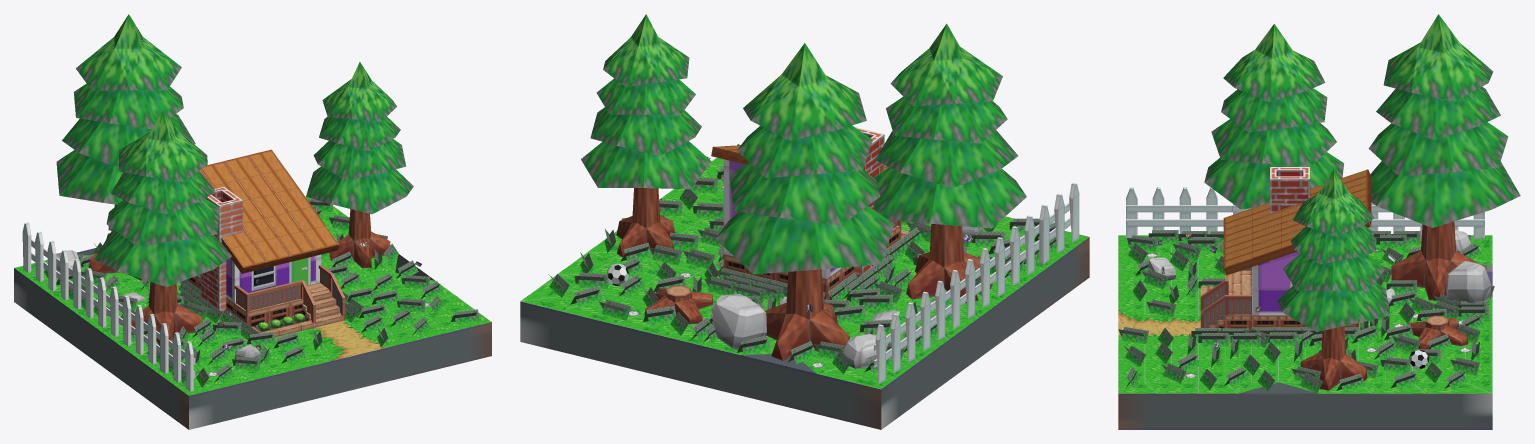
The picture shows the model from 3 angles, left to right: view 1: azimuth 30°, elevation 25°; view 2: azimuth 150°, elevation 25°; view 3: azimuth 270°, elevation 25°; orthographic projection. The views are drawn at different scales.
Visible parts, largest first — view 1: ground, tree_01, tree_02, tree_00, house, fence, support, chimney; view 2: ground, tree_02, tree_01, tree_00, fence, rock_02, tree_stump, house, support, rock_04, chimney; view 3: ground, tree_02, tree_01, tree_00, house, fence, support, chimney, rock_02, tree_stump, grass_092, rock_00 (+4 smaller).
Part boxes in pixels (x1,y1,x2,y2): ground: [14, 196, 491, 429]; tree_01: [94, 110, 231, 344]; tree_02: [56, 14, 195, 280]; tree_00: [306, 62, 413, 268]; house: [197, 149, 339, 303]; fence: [22, 222, 195, 391]; support: [187, 264, 345, 337]; chimney: [200, 187, 242, 318]; ground: [520, 157, 1089, 429]; tree_02: [715, 43, 894, 360]; tree_01: [872, 23, 1026, 303]; tree_00: [581, 14, 711, 257]; fence: [874, 182, 1079, 384]; rock_02: [712, 294, 766, 349]; tree_stump: [644, 285, 713, 323]; house: [711, 145, 888, 278]; support: [723, 219, 909, 299]; rock_04: [842, 333, 888, 368]; chimney: [854, 127, 884, 276]; ground: [1118, 235, 1492, 429]; tree_02: [1368, 14, 1520, 300]; tree_01: [1204, 24, 1344, 209]; tree_00: [1277, 169, 1390, 390]; house: [1223, 169, 1371, 315]; fence: [1126, 187, 1484, 239]; support: [1200, 267, 1358, 330]; chimney: [1270, 167, 1309, 261]; rock_02: [1446, 261, 1491, 304]; tree_stump: [1407, 315, 1468, 349]; grass_092: [1376, 234, 1406, 248]; rock_00: [1148, 257, 1176, 280].
Size of the model in its own units: 15.11 by 15.06 by 12.57.
